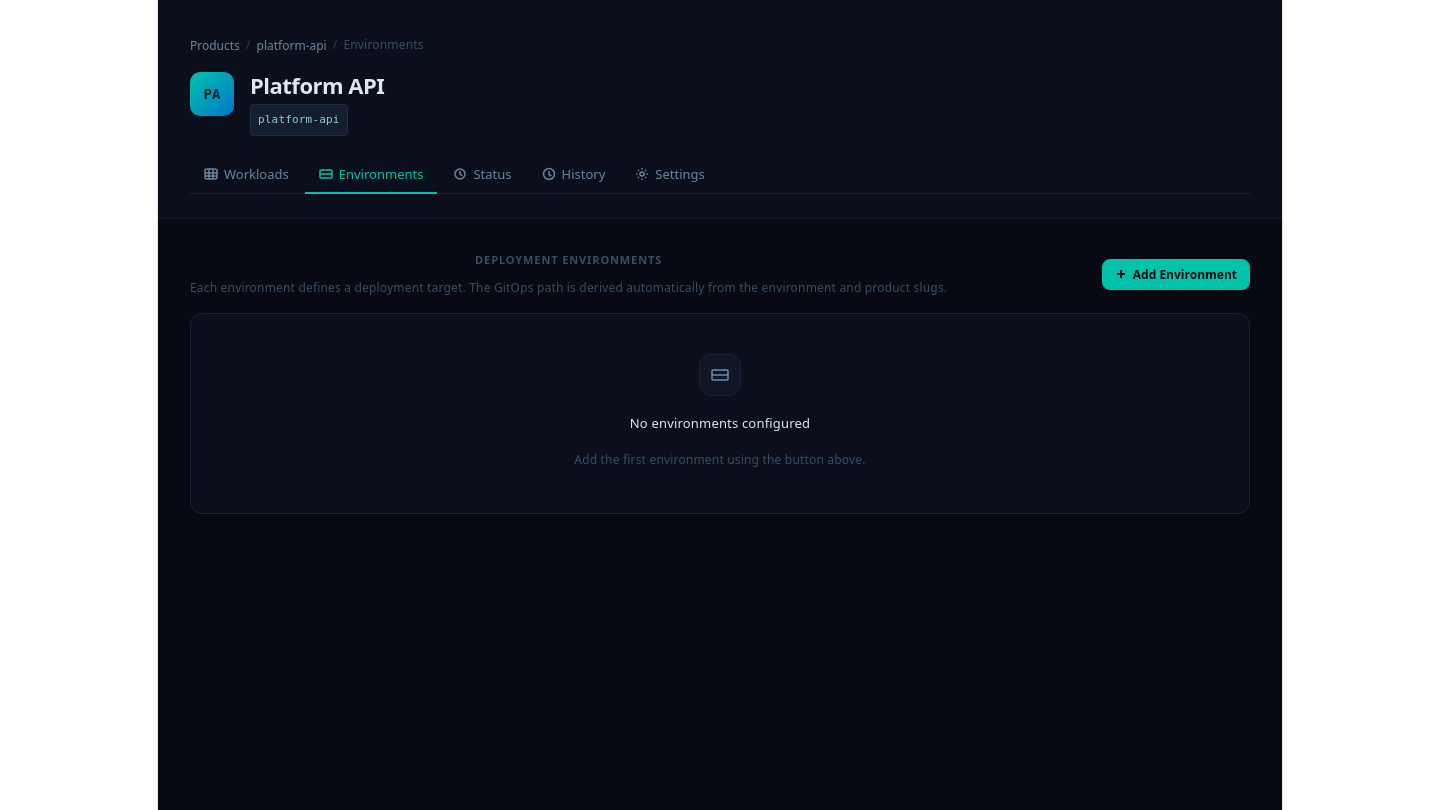
Test case: EnvironmentsPage — create flow (admin) › adds new environment to table after successful create (no page reload)
Click the button "Add Environment".
click(1176, 274)  # box [1102,259,1250,290]
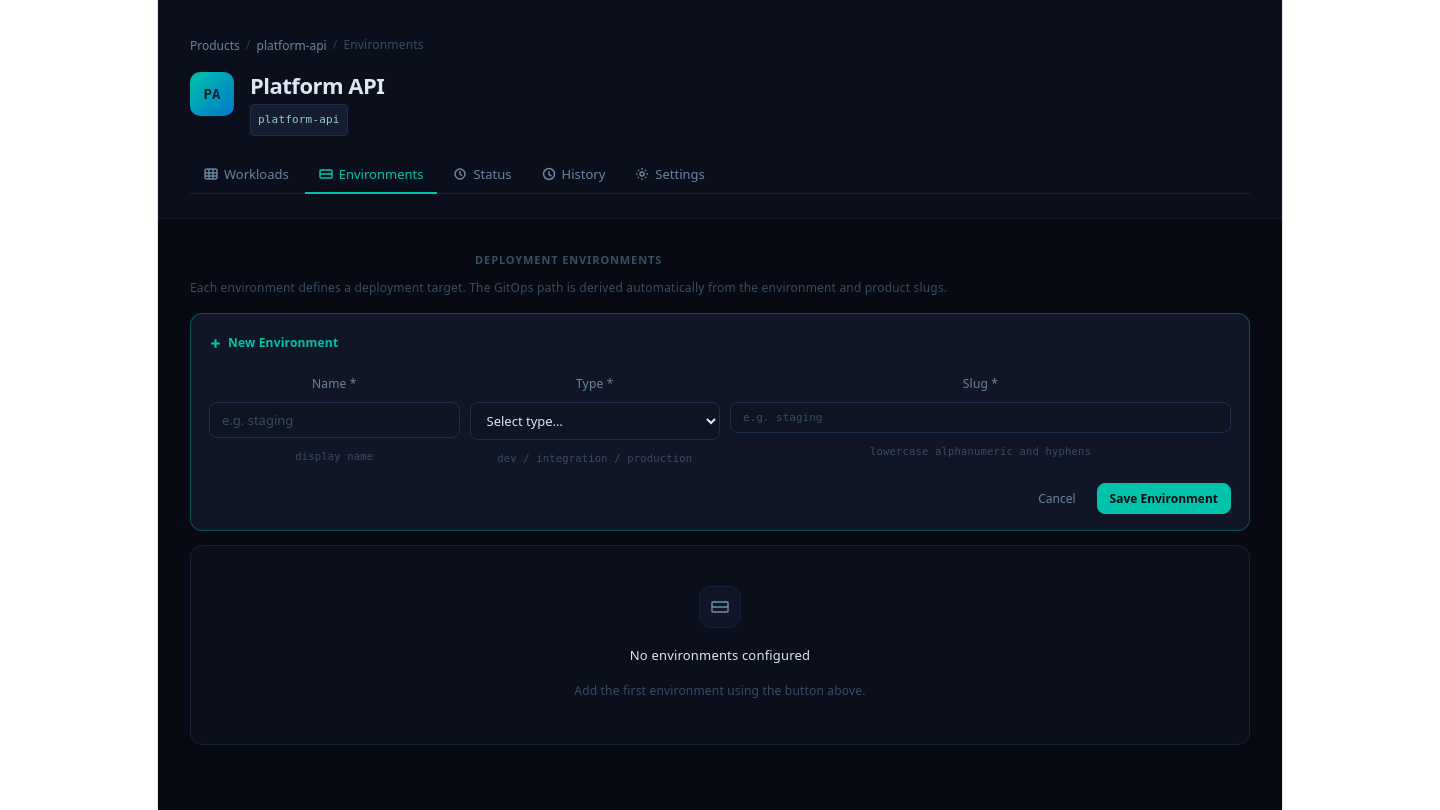
Type "staging" into the field labelled "Name *".
click(334, 420); type("staging")  # box [209,402,460,438]
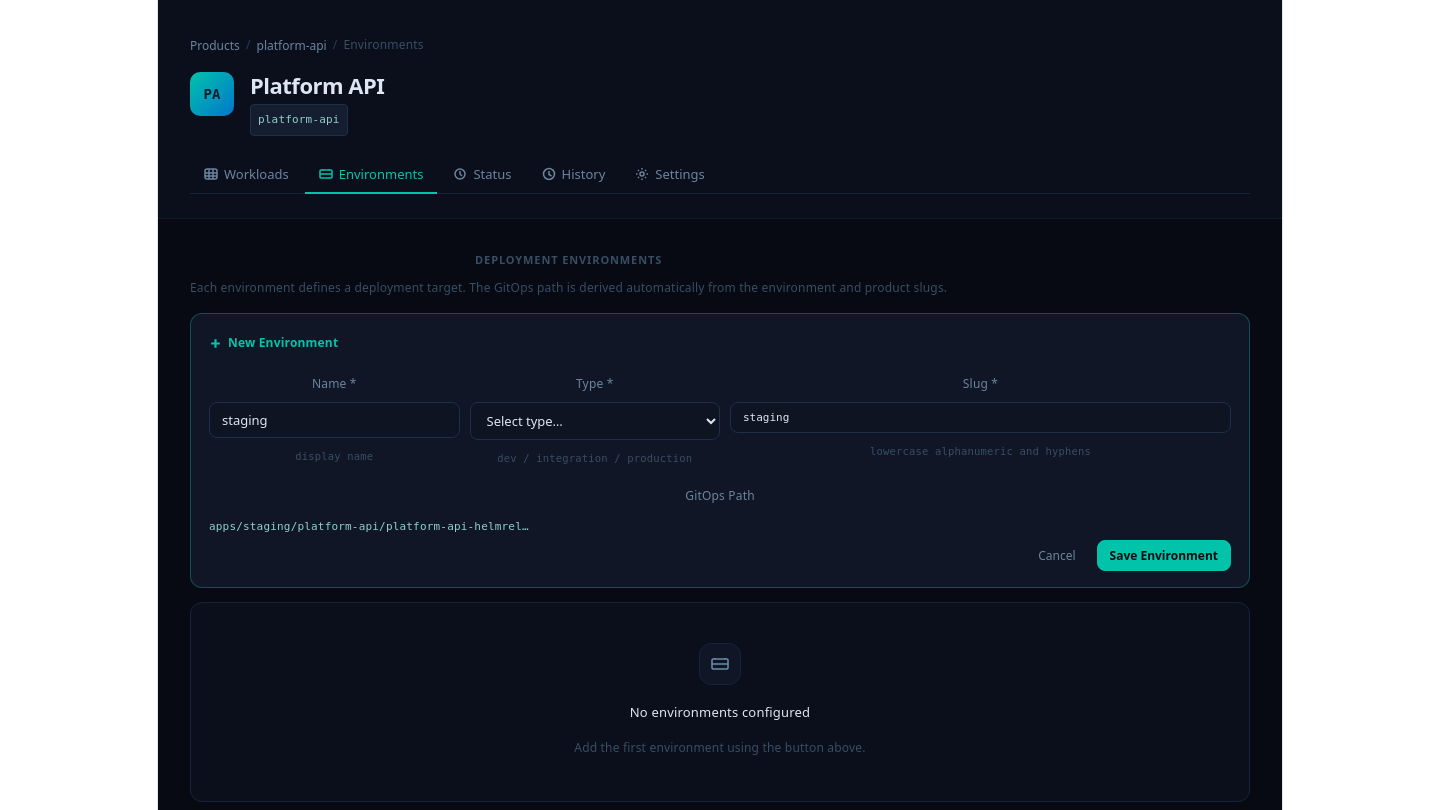
Select "integration" in the dropdown labelled "Type *" at (595, 421), box [470,402,720,440]
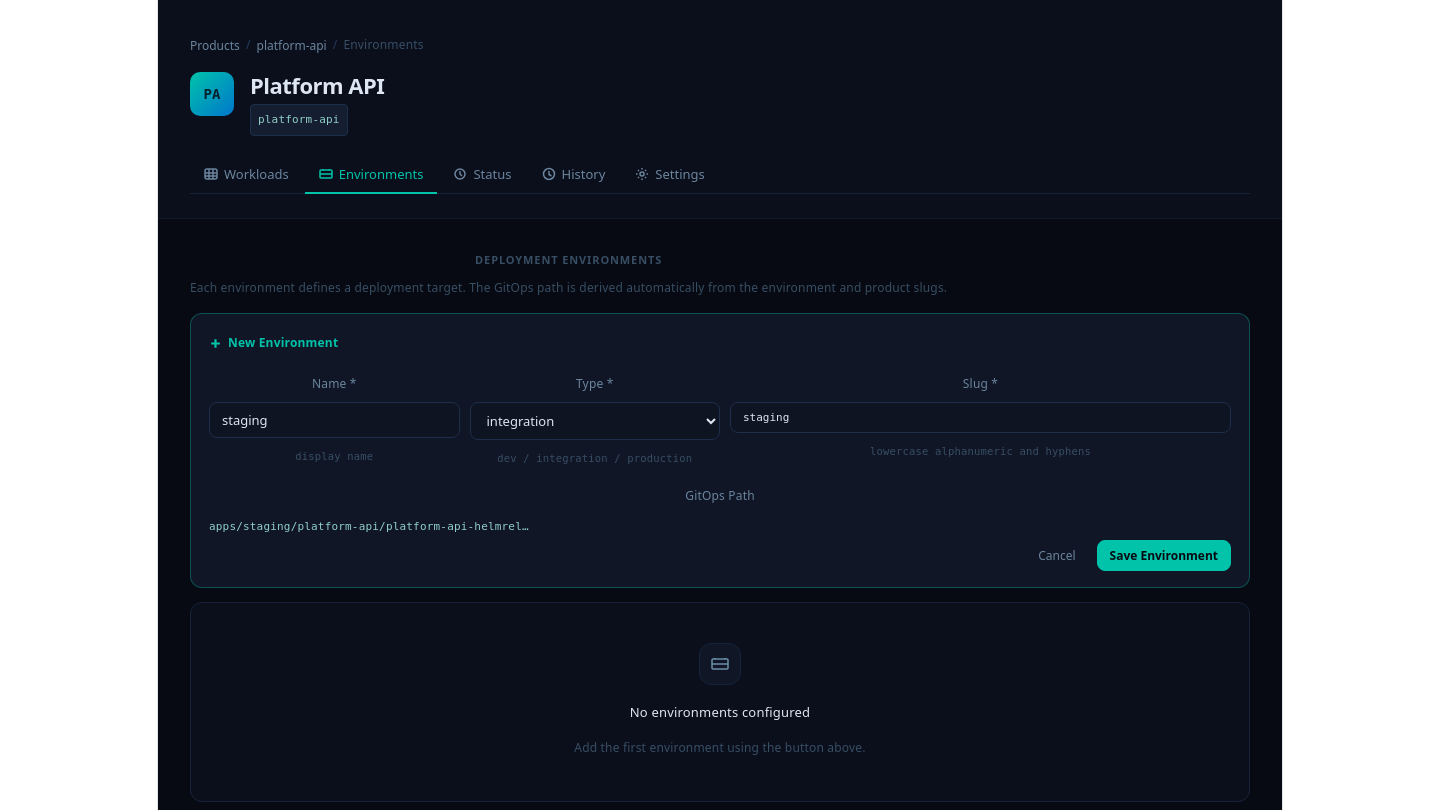
Click the button "Save Environment".
click(1164, 555)  # box [1096,540,1231,571]
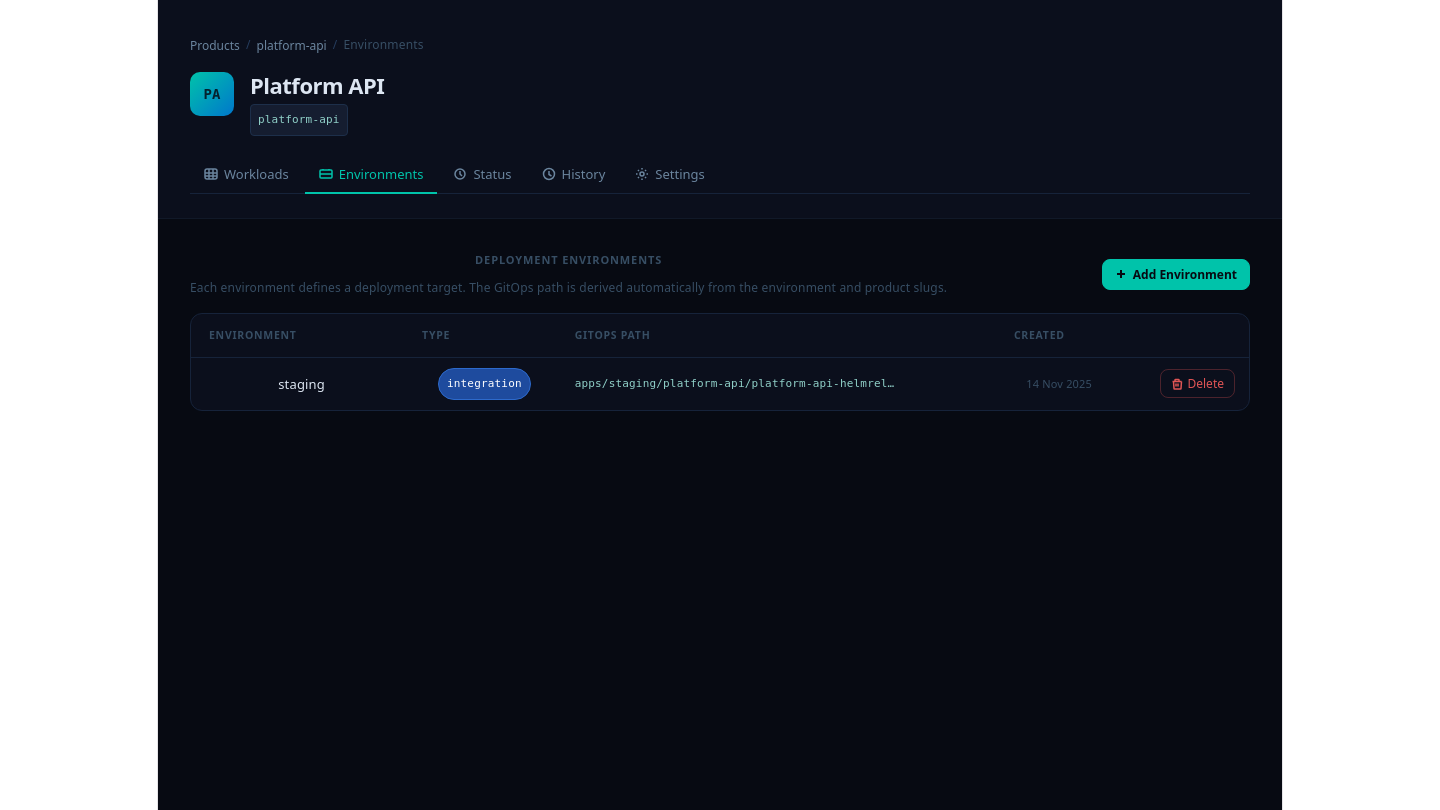
expect the text "staging" is shown: met, box [278,375,325,393]
expect the text "New Environment" is gone: met
